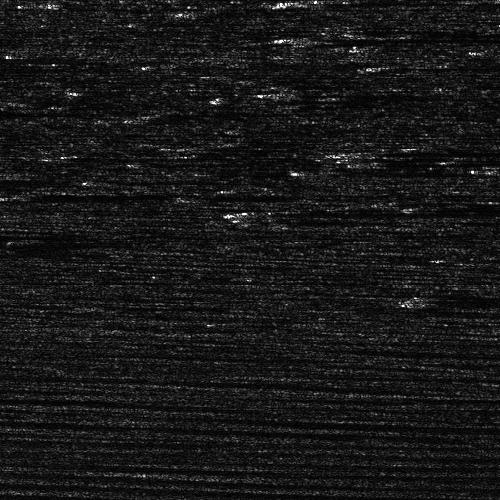rock: (313, 141, 396, 160), (313, 154, 396, 173), (264, 32, 357, 43), (394, 293, 467, 304), (215, 208, 298, 217), (0, 192, 45, 199), (177, 193, 218, 198)
shadow: (355, 141, 500, 160), (355, 154, 500, 173), (257, 208, 500, 217), (311, 32, 500, 43), (19, 192, 174, 199), (0, 246, 95, 257), (431, 293, 500, 304), (0, 108, 59, 117), (0, 179, 67, 186), (198, 193, 279, 198), (0, 54, 66, 59)
